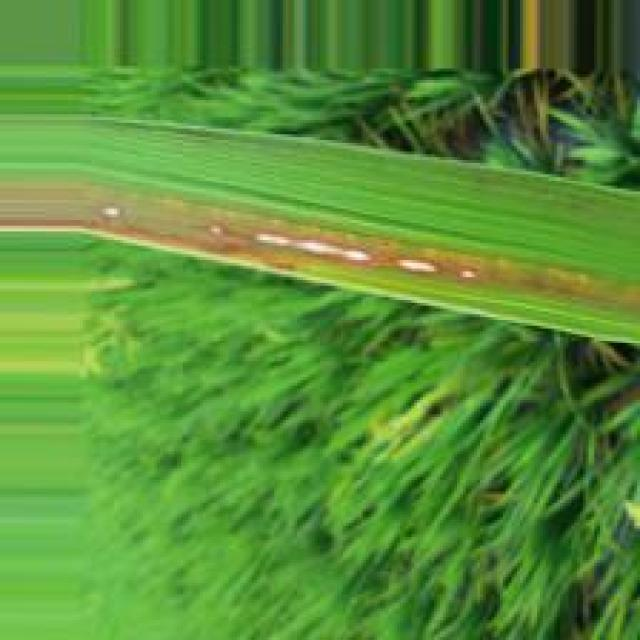Bacterial_Leaf_Blight: (104, 193, 640, 313)
